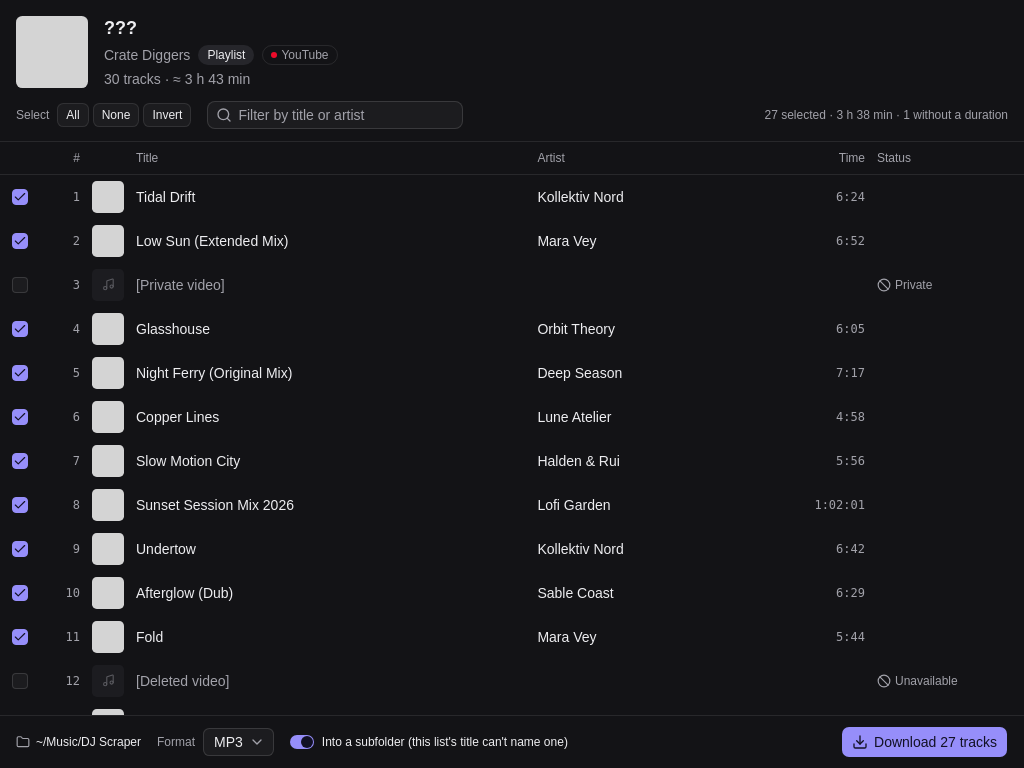
Test: DownloadBar › downloads into the folder itself when the title ??? can name no subfolder
Click the button "Download 27 tracks" at (924, 742), box [841, 726, 1008, 758]
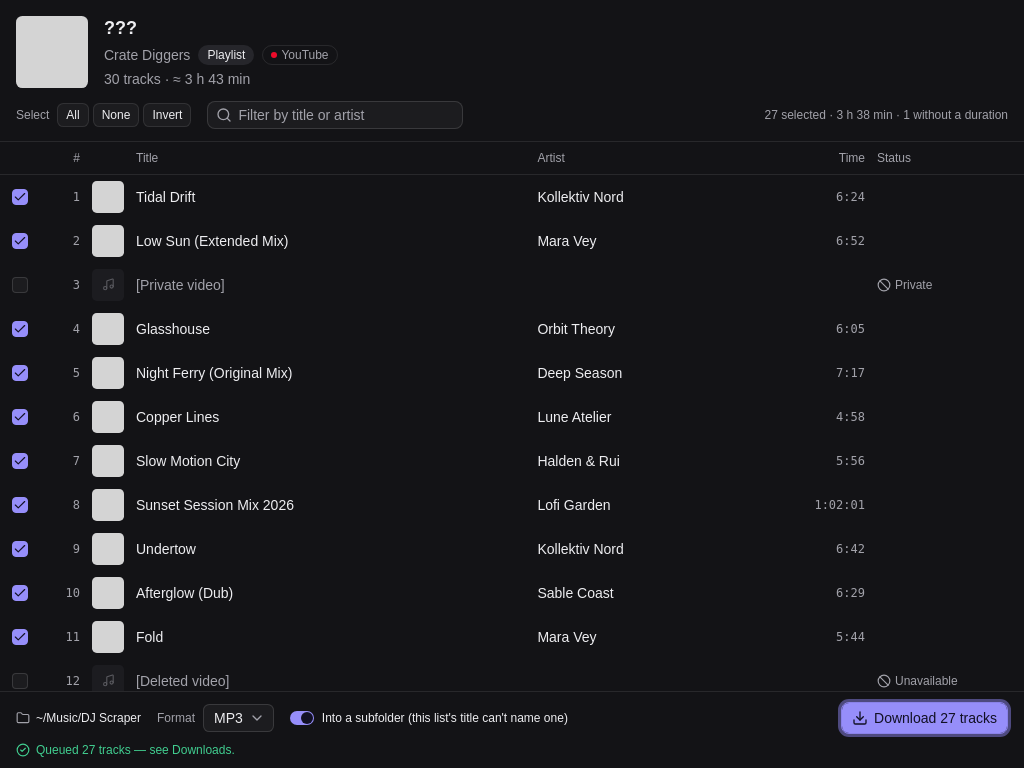
Now the text "Queued 27 tracks — see Downloads." is shown, box [16, 743, 235, 757]
